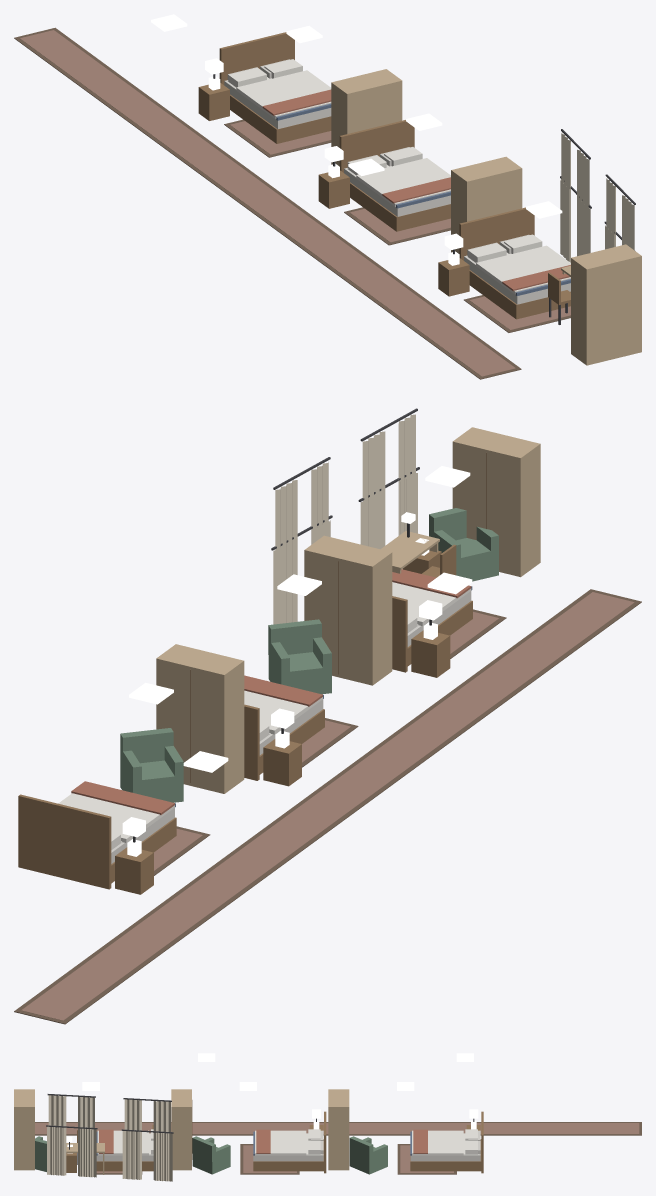
File: fine-s1.glb
The picture shows the model from 3 angles, top to bottom: view 1: azimuth 30°, elevation 25°; view 2: azimuth 150°, elevation 25°; view 3: azimuth 270°, elevation 25°; orthographic projection. The views are drawn at different scales.
Visible parts, largest first — view 1: soft-s1, dresser.002, bed-frame.000, bed-frame.001, bed-frame.002, dresser.000, dresser.001, nightstand.000, nightstand.001, nightstand.002, cafe-chair.000; view 2: soft-s1, dresser.001, dresser.000, dresser.002, bed-frame.000, lounge-chair.001, lounge-chair.000, lounge-chair.002, bed-frame.001, bed-frame.002, nightstand.002, nightstand.000 (+2 smaller); view 3: soft-s1, dresser.000, dresser.001, dresser.002, bed-frame.001, bed-frame.000, lounge-chair.000, lounge-chair.001, bed-frame.002, lounge-chair.002, writing-desk.000, side-table.000.
Part boxes in pixels (x1=…): soft-s1: x1=14, y1=27, x2=635, y2=379; dresser.002: x1=571, y1=244, x2=641, y2=365; bed-frame.000: x1=219, y1=32, x2=331, y2=143; bed-frame.001: x1=339, y1=120, x2=450, y2=231; bed-frame.002: x1=459, y1=207, x2=570, y2=319; dresser.000: x1=331, y1=69, x2=402, y2=166; dresser.001: x1=451, y1=156, x2=522, y2=253; nightstand.000: x1=198, y1=76, x2=229, y2=120; nightstand.001: x1=318, y1=163, x2=349, y2=208; nightstand.002: x1=438, y1=251, x2=469, y2=296; cafe-chair.000: x1=548, y1=272, x2=570, y2=324; soft-s1: x1=14, y1=408, x2=641, y2=1024; dresser.001: x1=304, y1=535, x2=392, y2=685; dresser.000: x1=156, y1=644, x2=244, y2=793; dresser.002: x1=452, y1=427, x2=540, y2=577; bed-frame.000: x1=18, y1=794, x2=176, y2=889; lounge-chair.001: x1=268, y1=619, x2=331, y2=694; lounge-chair.000: x1=120, y1=728, x2=183, y2=802; lounge-chair.002: x1=429, y1=508, x2=498, y2=581; bed-frame.001: x1=244, y1=694, x2=324, y2=780; bed-frame.002: x1=392, y1=586, x2=472, y2=672; nightstand.002: x1=411, y1=622, x2=450, y2=677; nightstand.000: x1=115, y1=839, x2=153, y2=894; soft-s1: x1=35, y1=1094, x2=641, y2=1181; dresser.000: x1=328, y1=1089, x2=349, y2=1170; dresser.001: x1=171, y1=1089, x2=192, y2=1170; dresser.002: x1=14, y1=1089, x2=34, y2=1170; bed-frame.001: x1=253, y1=1111, x2=326, y2=1173; bed-frame.000: x1=410, y1=1111, x2=483, y2=1173; lounge-chair.000: x1=349, y1=1136, x2=387, y2=1174; lounge-chair.001: x1=192, y1=1136, x2=230, y2=1174; bed-frame.002: x1=96, y1=1131, x2=153, y2=1171; lounge-chair.002: x1=35, y1=1136, x2=46, y2=1171; writing-desk.000: x1=66, y1=1136, x2=104, y2=1174; side-table.000: x1=66, y1=1144, x2=76, y2=1172.
Bounding box in the file's own units: 4.14 × 2.61 × 18.03.
